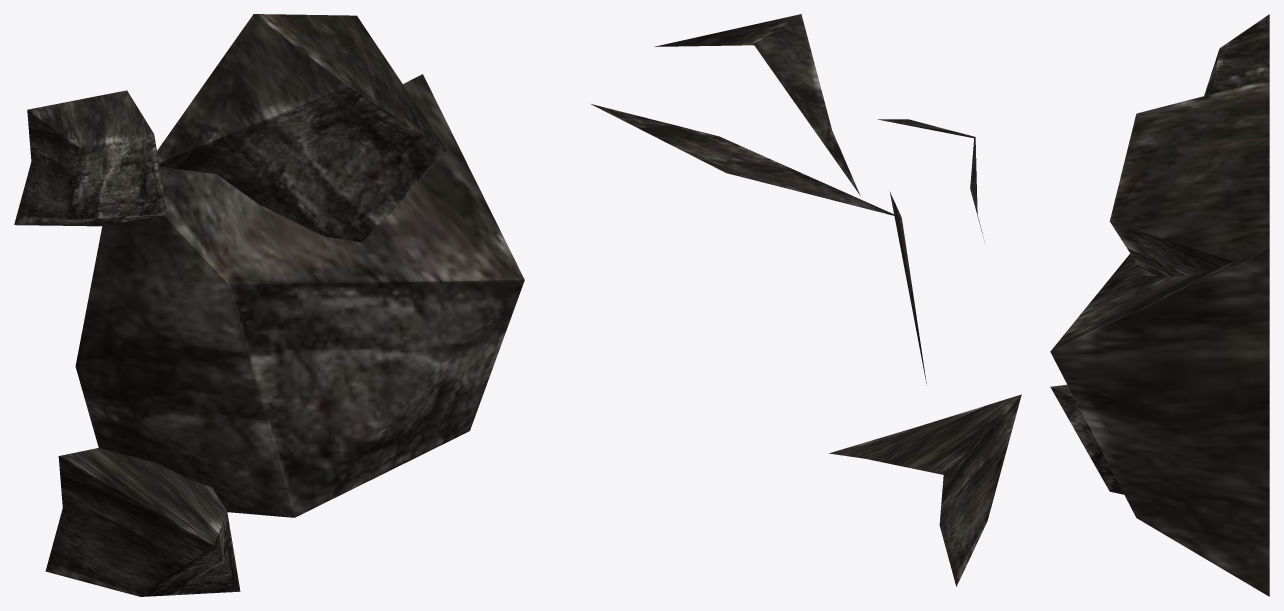
3 renders of one model, left to right at view 1: azimuth 30°, elevation 25°; view 2: azimuth 150°, elevation 25°; view 3: azimuth 270°, elevation 25°, orthographic. The views are drawn at different scales.
Parts seen in each view (by area): view 1: model_Object28; view 2: model_Object28; view 3: model_Object28.
Part boxes in pixels (x1=…): model_Object28: x1=14, y1=14, x2=524, y2=596; model_Object28: x1=591, y1=14, x2=1021, y2=586; model_Object28: x1=1050, y1=14, x2=1269, y2=596.
Size of the model in its own units: 1.78 by 2.03 by 0.8132.
1 material, 1 textured.
